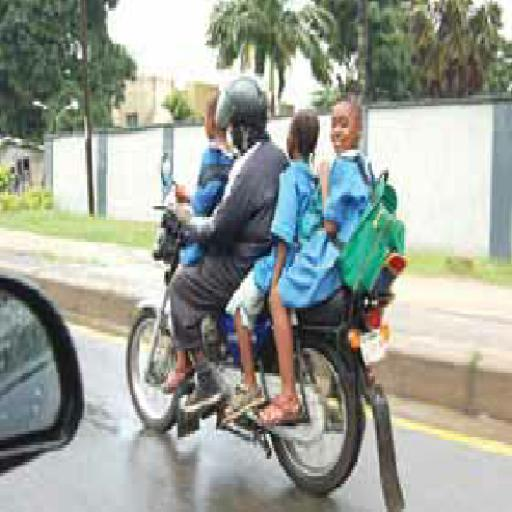helmet: (215, 75, 267, 150)
overloading: (124, 186, 409, 507)
